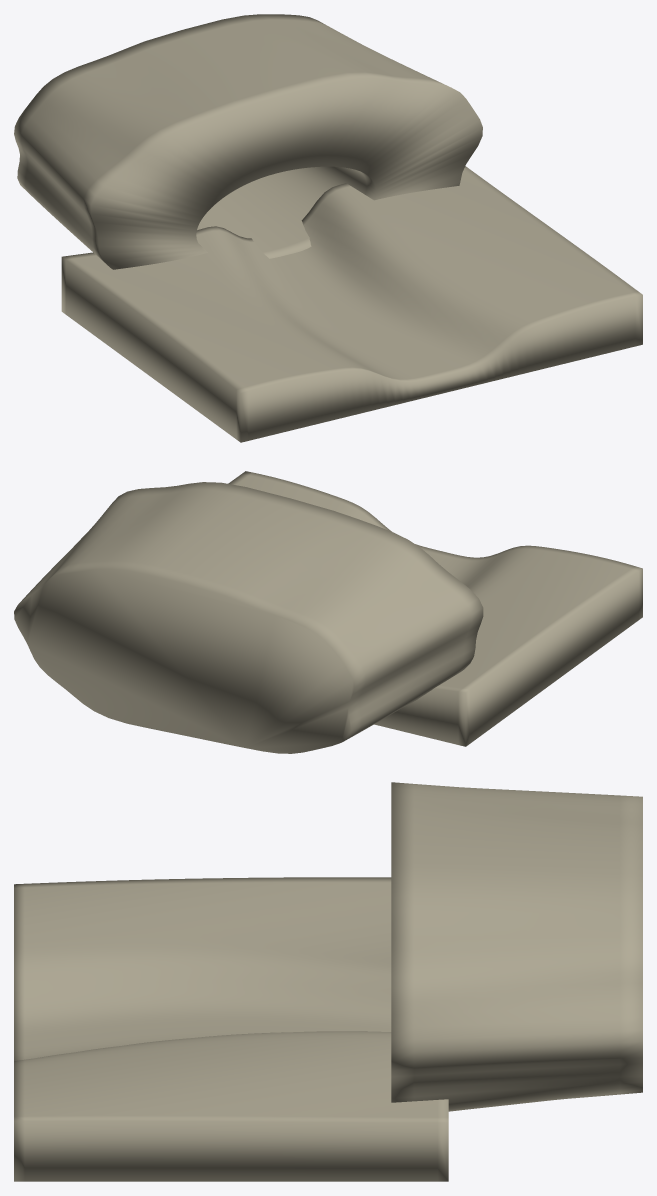
Rendered from karst-spring-mouth.glb.
3 views of the same model, one above another, from view 1: azimuth 30°, elevation 25°; view 2: azimuth 150°, elevation 25°; view 3: azimuth 270°, elevation 25° (orthographic). The views are drawn at different scales.
Visible parts, largest first — view 1: attached-exposed-rock-bed-and-short-open-spring-channel-no-w, continuous-thick-rock-roof-low-spring-cavity-and-wall; view 2: continuous-thick-rock-roof-low-spring-cavity-and-wall, attached-exposed-rock-bed-and-short-open-spring-channel-no-w; view 3: attached-exposed-rock-bed-and-short-open-spring-channel-no-w, continuous-thick-rock-roof-low-spring-cavity-and-wall.
Part boxes in pixels (x1,y1,x2,y2): attached-exposed-rock-bed-and-short-open-spring-channel-no-w: (61, 166, 642, 442); continuous-thick-rock-roof-low-spring-cavity-and-wall: (14, 14, 482, 269); continuous-thick-rock-roof-low-spring-cavity-and-wall: (14, 482, 483, 753); attached-exposed-rock-bed-and-short-open-spring-channel-no-w: (228, 471, 642, 746); attached-exposed-rock-bed-and-short-open-spring-channel-no-w: (14, 877, 448, 1181); continuous-thick-rock-roof-low-spring-cavity-and-wall: (391, 782, 642, 1111).
Size of the model in its own units: 3 by 1.32 by 3.35.
